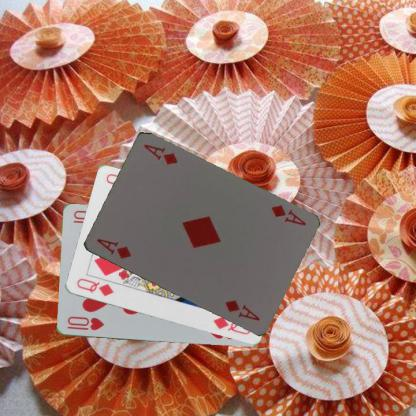10h: (64, 314, 105, 332)
Ad: (268, 202, 307, 227), (94, 236, 132, 260)
Qd: (74, 276, 115, 298)
